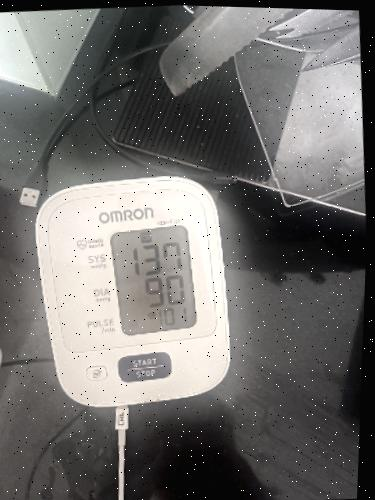bpm: (105, 223, 200, 338)
